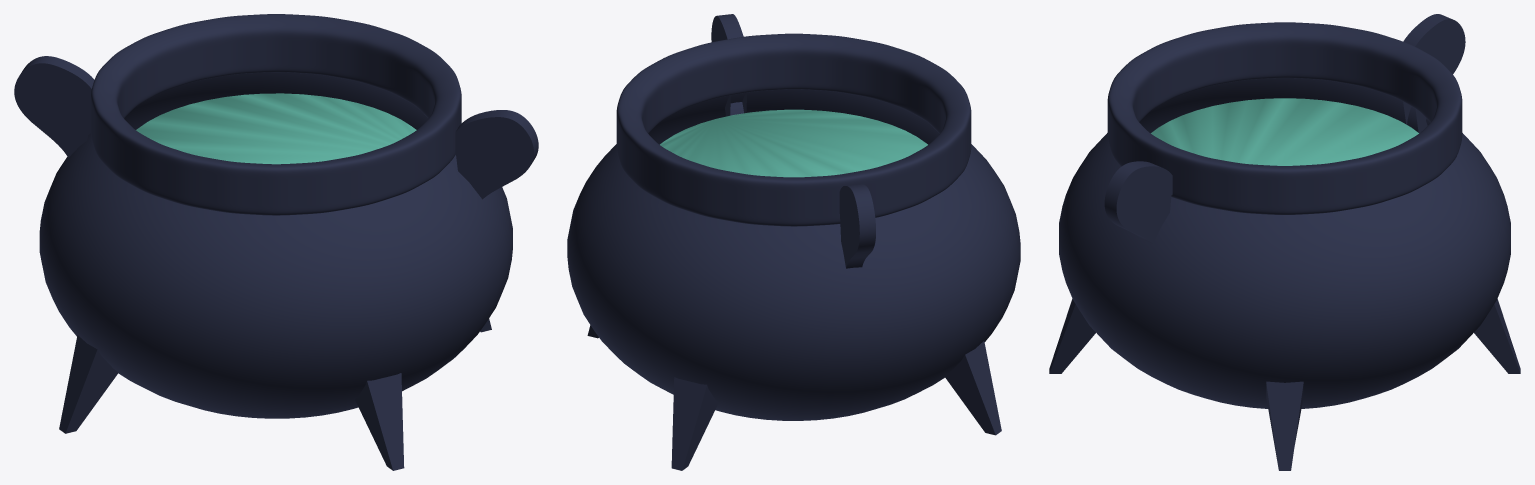
File: kazan.fbx
3 views of the same model, side by side, from view 1: azimuth 30°, elevation 25°; view 2: azimuth 150°, elevation 25°; view 3: azimuth 270°, elevation 25° (orthographic). The views are drawn at different scales.
Visible parts, largest first — view 1: kazan, liquid, ayak; view 2: kazan, liquid, ayak; view 3: kazan, liquid, ayak.
Part boxes in pixels (<box>): kazan: <box>14,14,538,418</box>; liquid: <box>136,93,416,164</box>; ayak: <box>59,319,491,470</box>; kazan: <box>567,14,1020,420</box>; liquid: <box>660,109,927,177</box>; ayak: <box>587,325,1001,470</box>; kazan: <box>1059,14,1510,408</box>; liquid: <box>1151,98,1418,165</box>; ayak: <box>1049,299,1520,470</box>.
Size of the model in its own units: 95.18 by 63.39 by 95.18.
